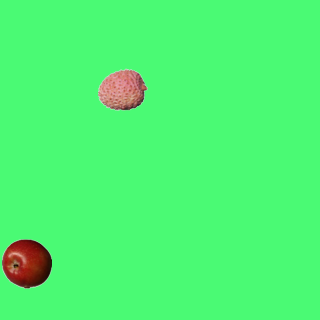Apple Braeburn: (1, 238, 51, 288)
Lychee: (97, 64, 147, 114)
